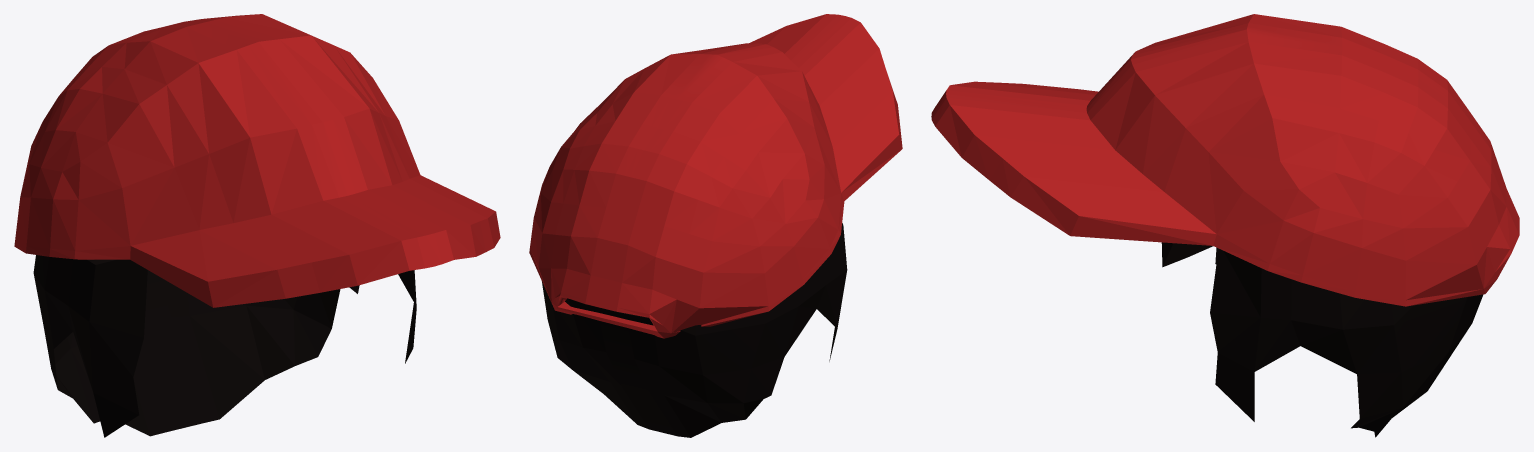
The model's file is bone.FBX.
The picture shows the model from 3 angles, left to right: view 1: azimuth 30°, elevation 25°; view 2: azimuth 150°, elevation 25°; view 3: azimuth 270°, elevation 25°; orthographic projection. The views are drawn at different scales.
Visible parts, largest first — view 1: boné, cabeloboné; view 2: boné, cabeloboné; view 3: boné, cabeloboné.
Part boxes in pixels (left/top/right/bottom): boné: left=14, top=14, right=500, bottom=307; cabeloboné: left=33, top=255, right=416, bottom=437; boné: left=529, top=14, right=902, bottom=338; cabeloboné: left=542, top=223, right=847, bottom=437; boné: left=931, top=14, right=1519, bottom=306; cabeloboné: left=1161, top=242, right=1483, bottom=437.
Size of the model in its own units: 86.79 by 102 by 137.
